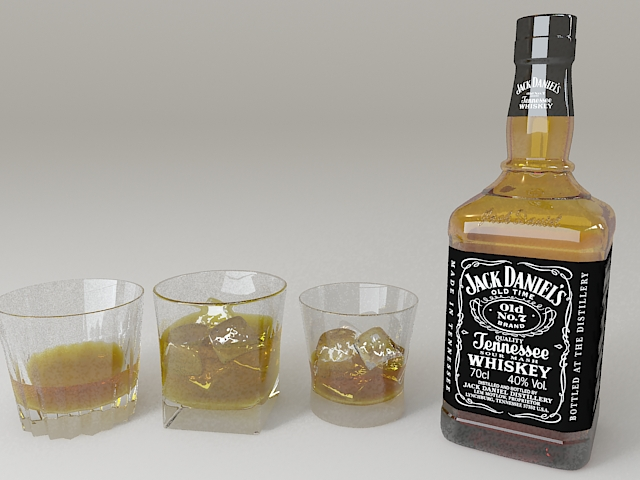Jack Daniel: (425, 4, 629, 478)
